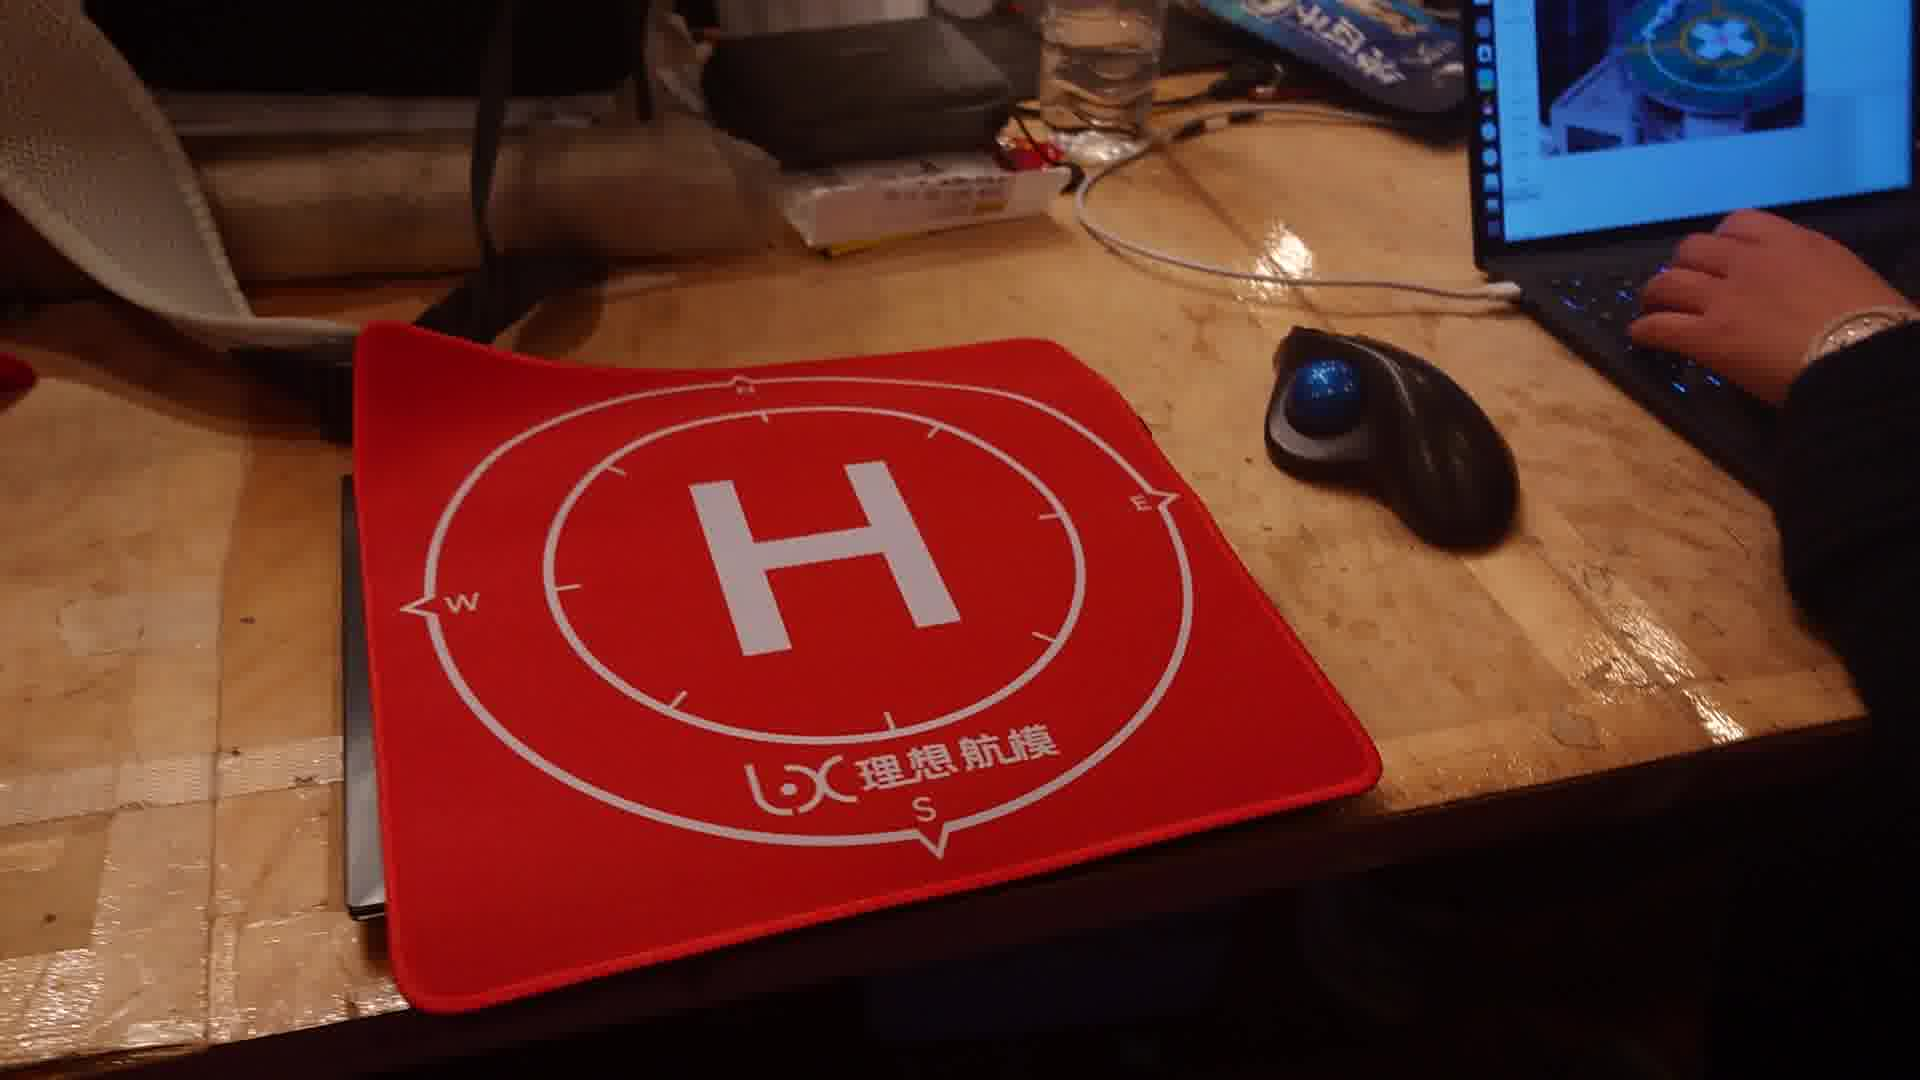H: (688, 458, 971, 655)
